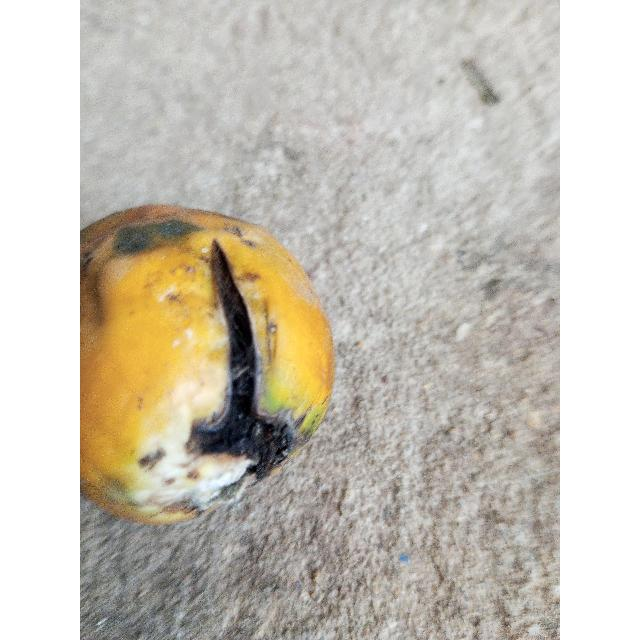damaged: (80, 205, 334, 524)
